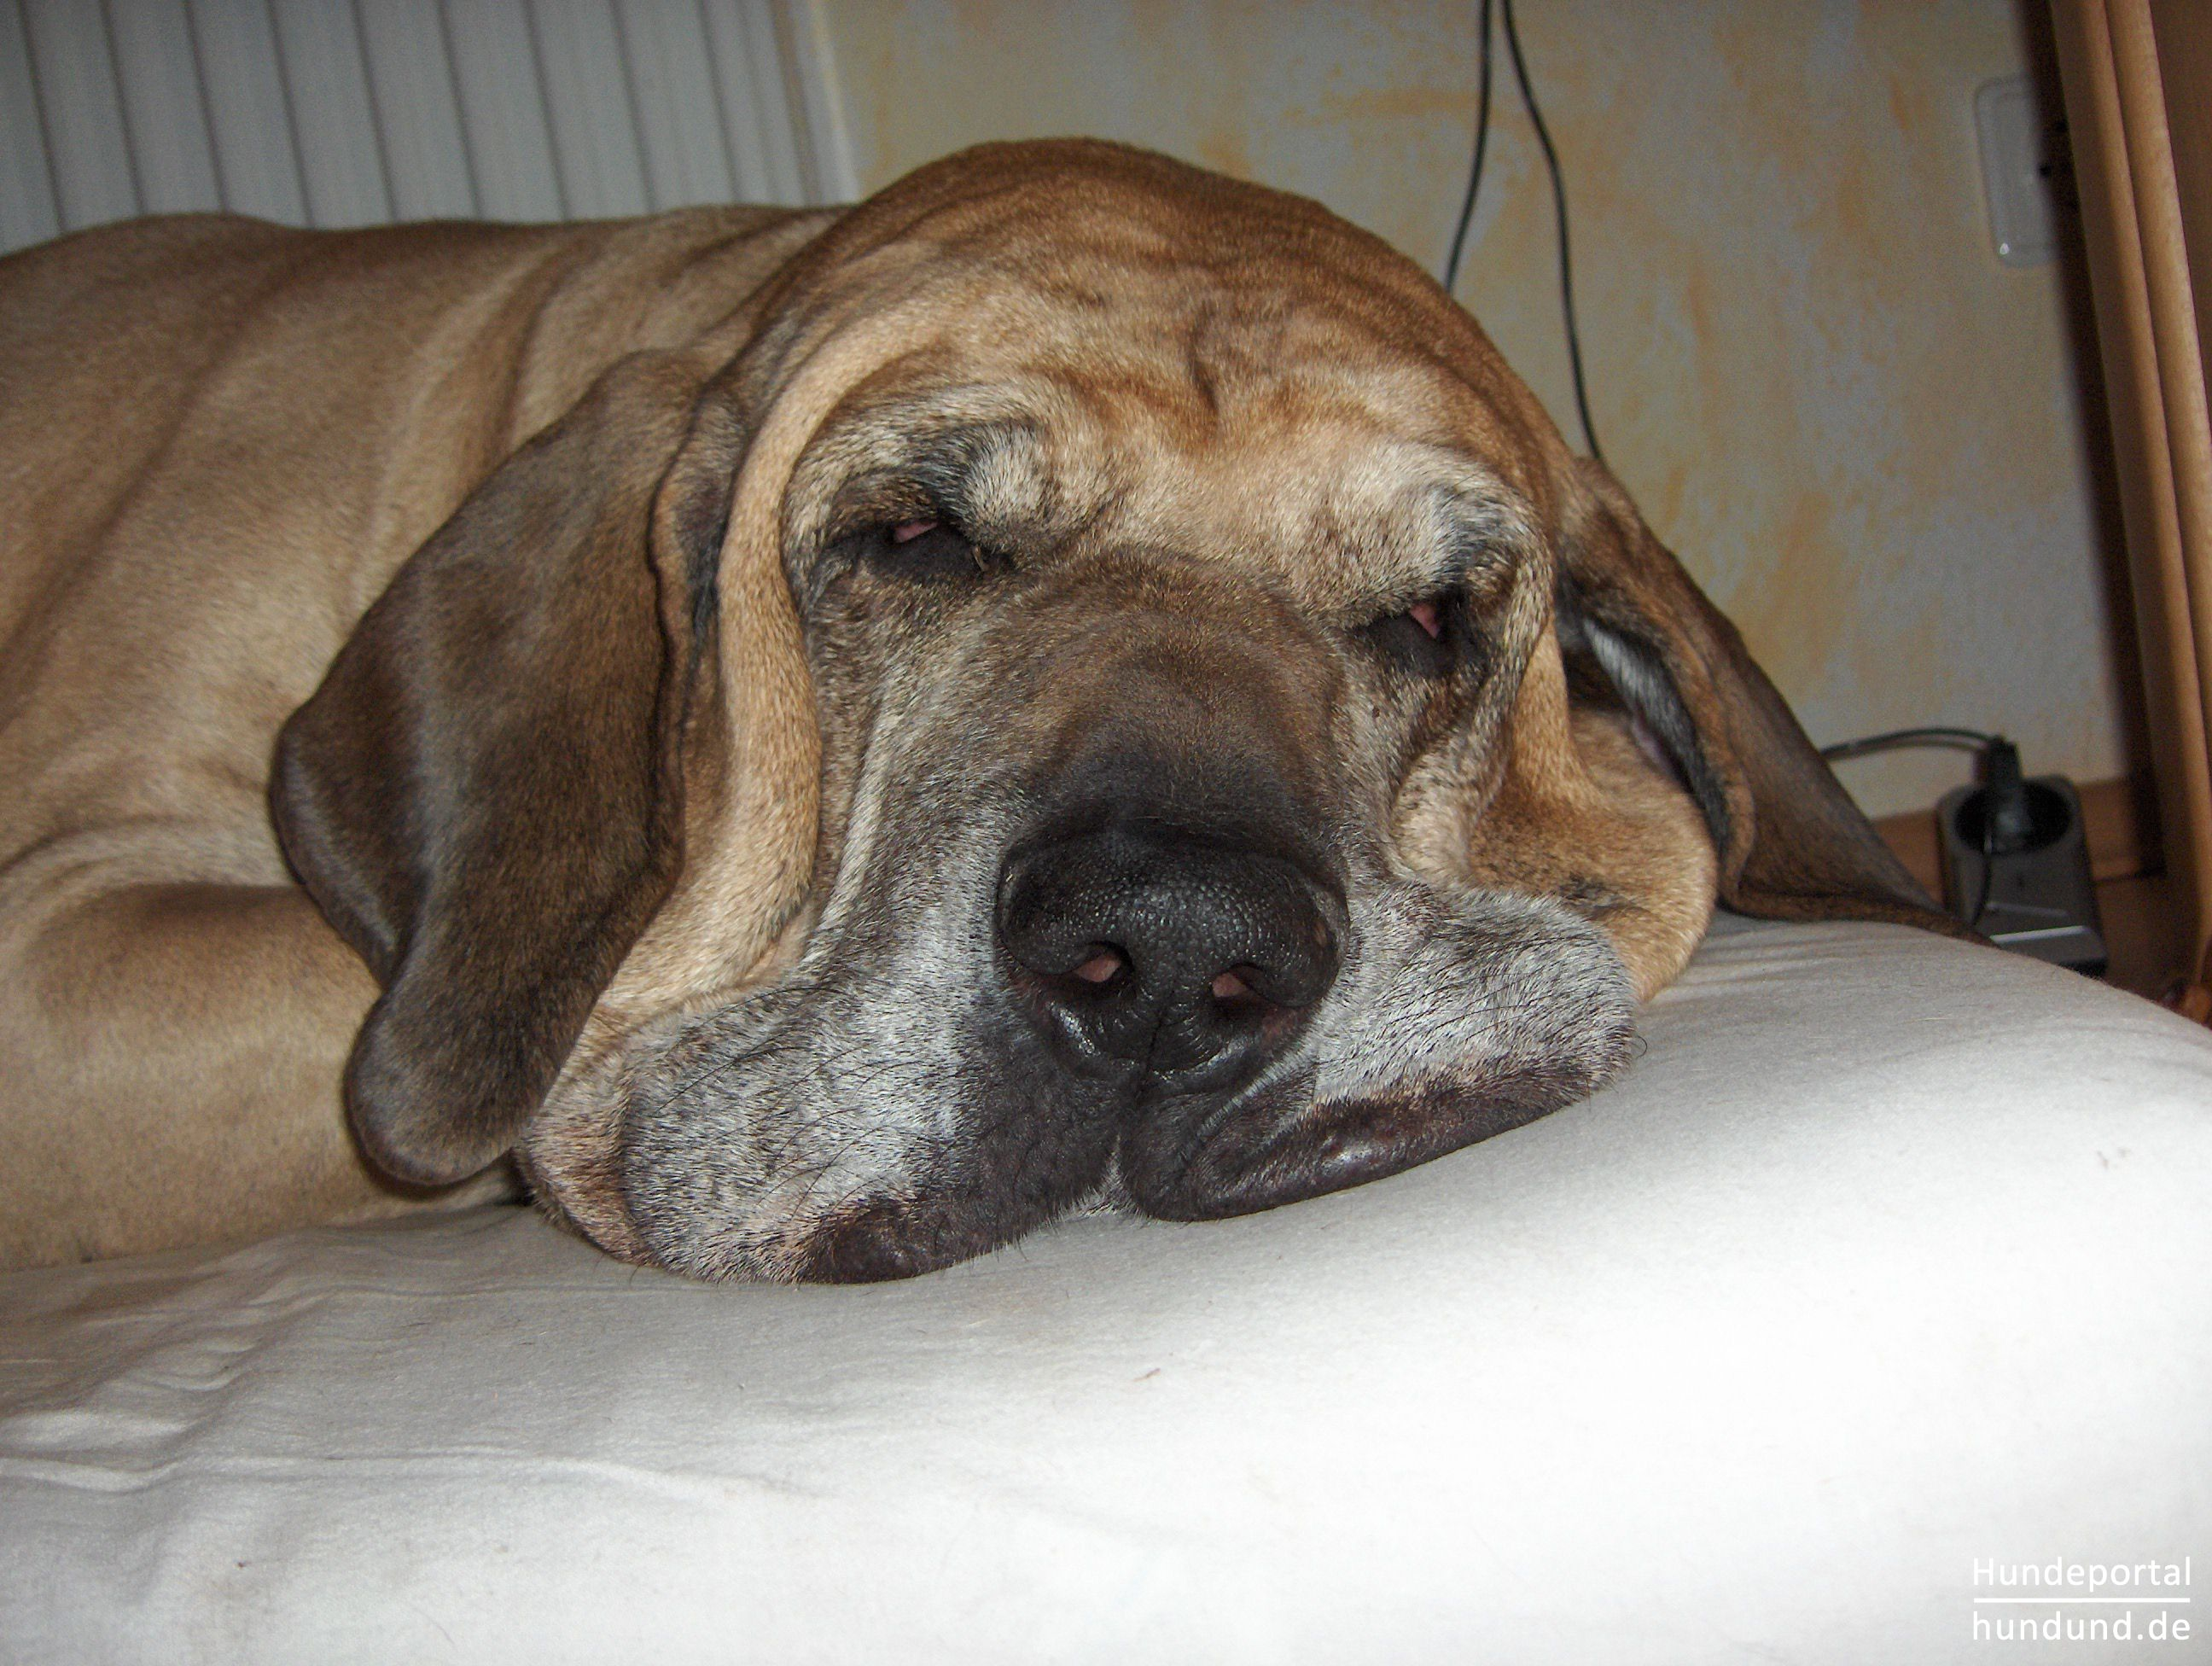fila_brasileiro: (0, 126, 1995, 1284)
